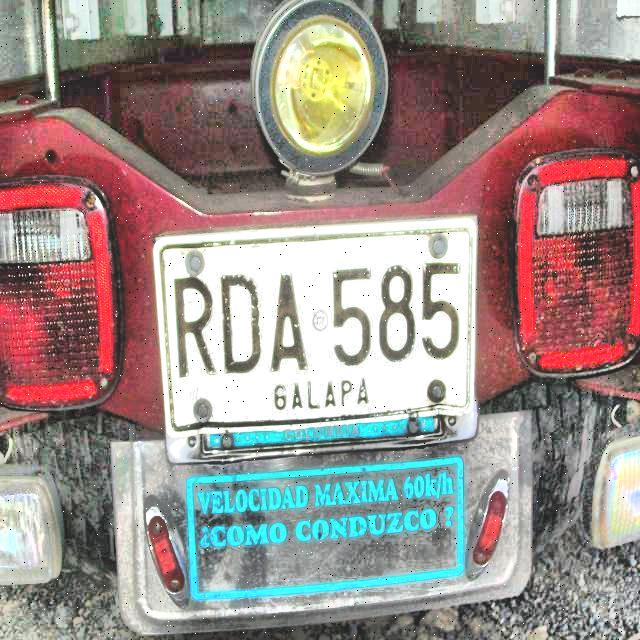5: (328, 264, 376, 371), (419, 260, 464, 362)
8: (376, 262, 419, 368)
A: (266, 272, 310, 374)
D: (220, 270, 264, 376)
R: (172, 276, 220, 380)
